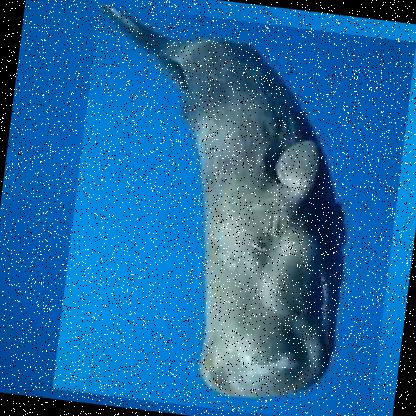sperm_whale: (50, 3, 416, 415)
